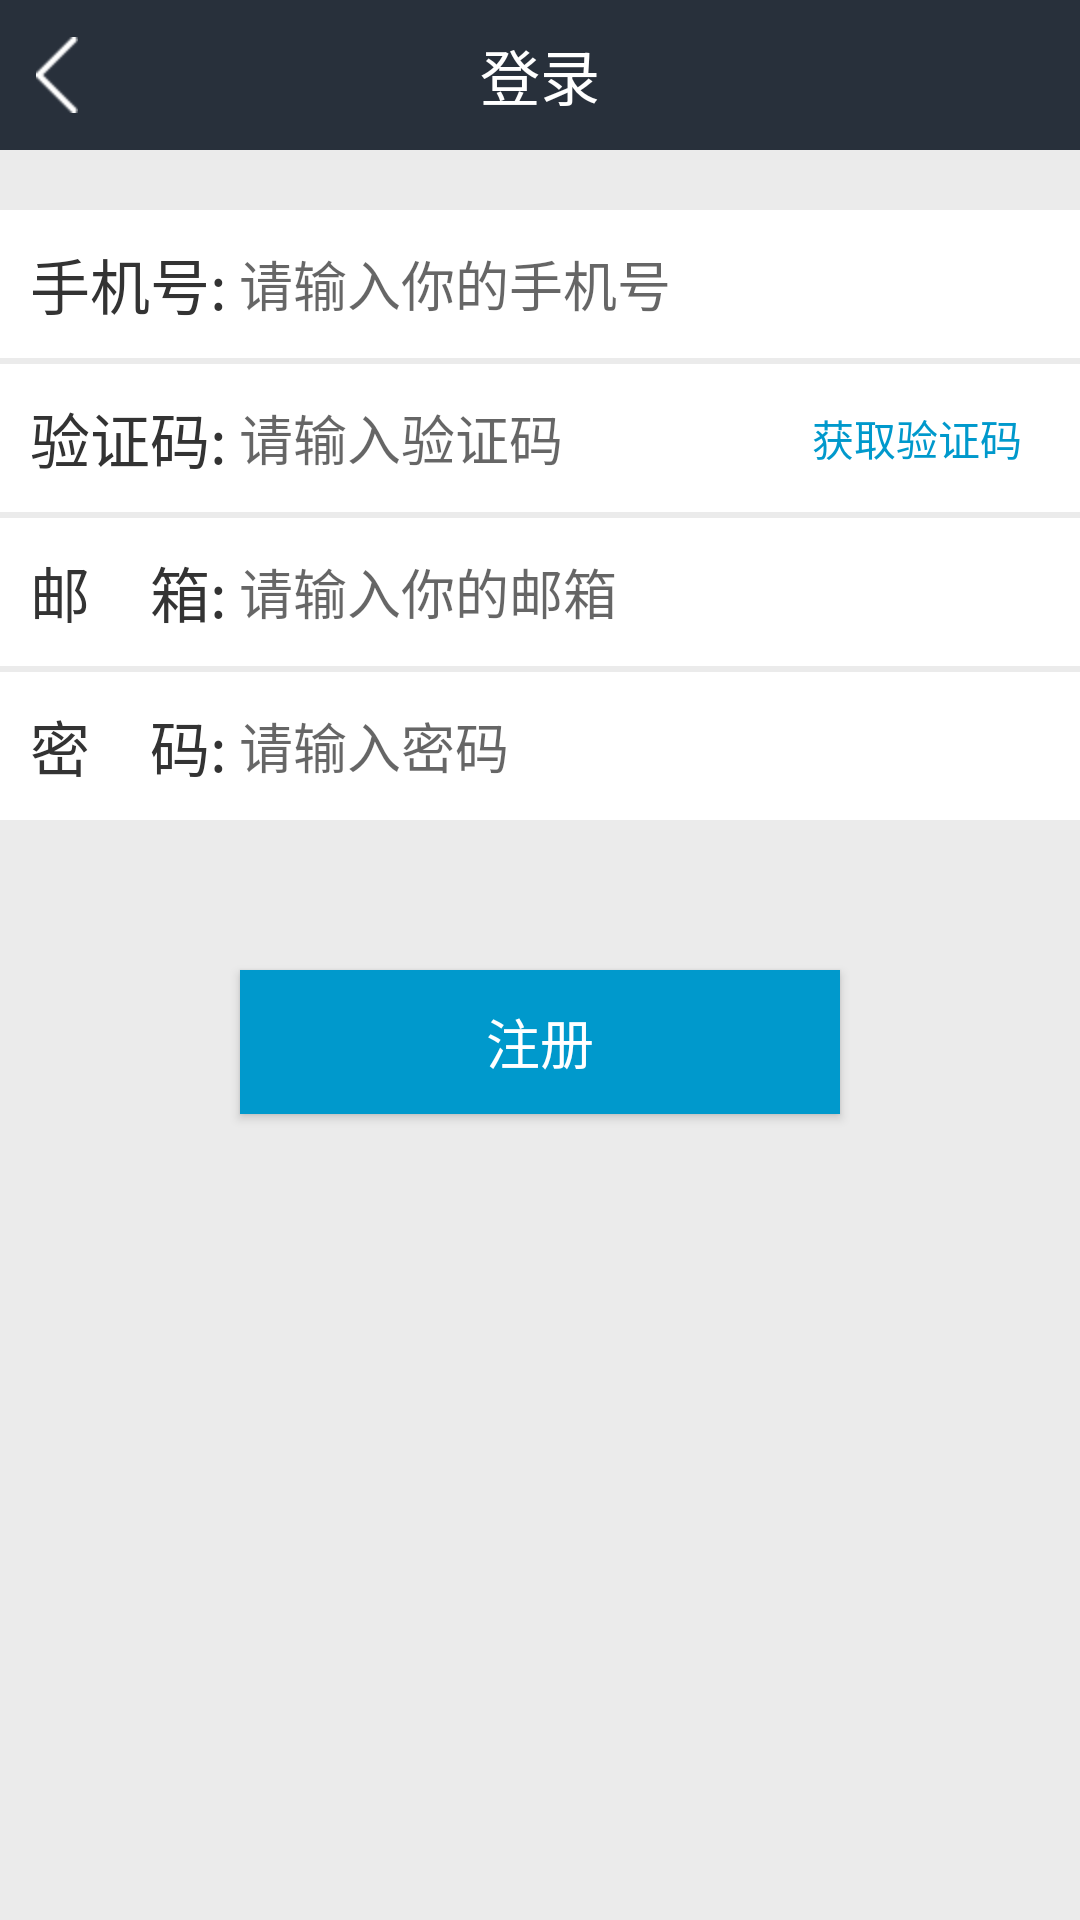

Named icons in this screenshot (1080w x 1920h) and their centers, point (x, y):
left arrow: point (57, 75)
